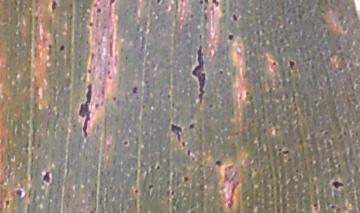tarspot: (183, 43, 216, 105), (69, 80, 96, 146), (165, 120, 182, 145), (225, 9, 245, 27), (328, 176, 347, 194), (38, 168, 54, 186), (12, 184, 26, 202), (223, 29, 238, 44), (179, 173, 192, 186), (211, 156, 224, 169), (278, 146, 291, 159), (184, 120, 198, 132), (55, 41, 68, 53), (128, 82, 140, 95), (287, 57, 297, 72), (47, 1, 59, 13), (92, 5, 105, 16), (118, 139, 132, 149), (145, 181, 157, 192), (1, 197, 14, 207), (183, 148, 194, 158), (167, 188, 179, 197), (292, 166, 303, 175), (216, 68, 228, 76), (45, 41, 54, 51), (130, 186, 139, 196), (328, 200, 337, 210), (312, 199, 320, 210), (210, 1, 222, 8), (109, 93, 118, 102), (163, 91, 172, 100), (270, 59, 279, 68), (86, 206, 97, 213), (86, 66, 93, 76), (107, 1, 118, 7), (86, 20, 95, 27), (199, 1, 208, 8), (154, 1, 164, 6)
